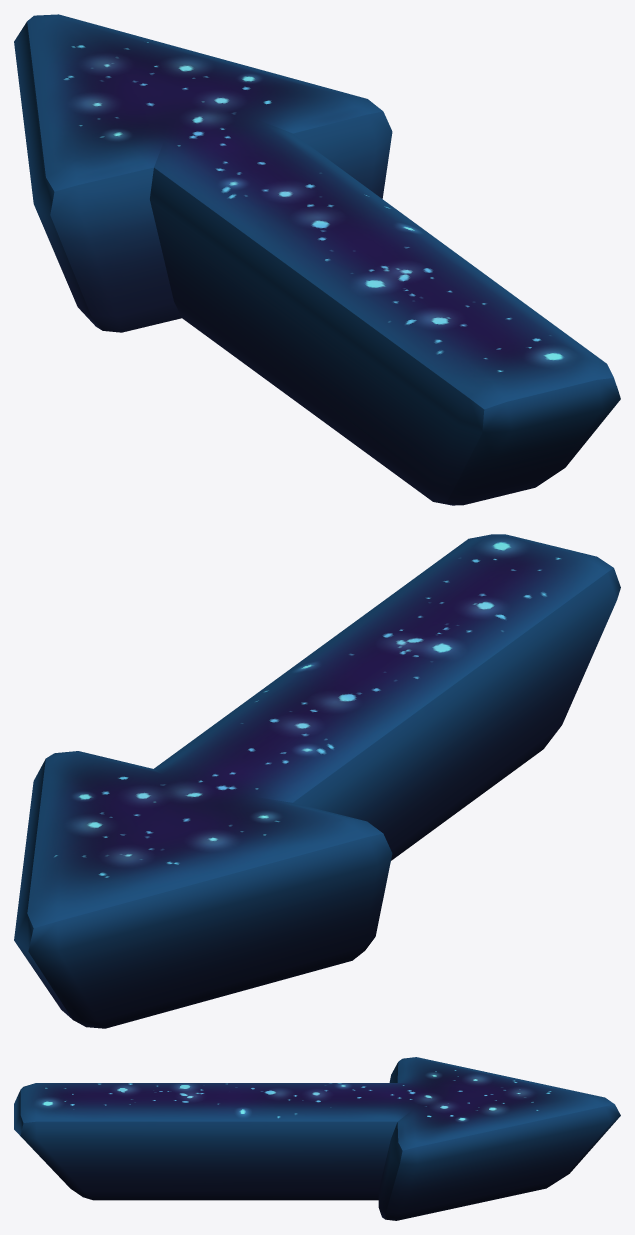
File: yazirushi_04.fbx
3 views of the same model, one above another, from view 1: azimuth 30°, elevation 25°; view 2: azimuth 150°, elevation 25°; view 3: azimuth 270°, elevation 25° (orthographic). The views are drawn at different scales.
Parts seen in each view (by area): view 1: yazirusi7; view 2: yazirusi7; view 3: yazirusi7.
Part boxes in pixels (x1,y1,x2,y2): yazirusi7: (14,14,620,505); yazirusi7: (14,534,620,1028); yazirusi7: (14,1057,620,1220).
Size of the model in its own units: 2.17 by 0.9804 by 5.78.
